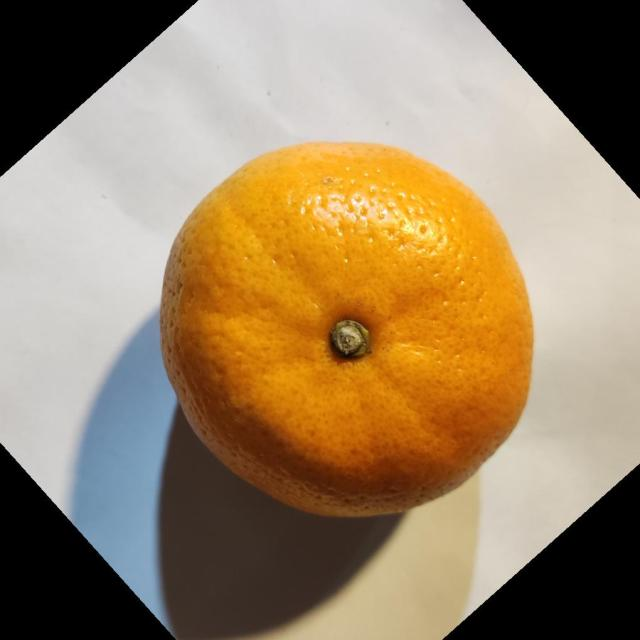fresh orange: (158, 139, 535, 519)
